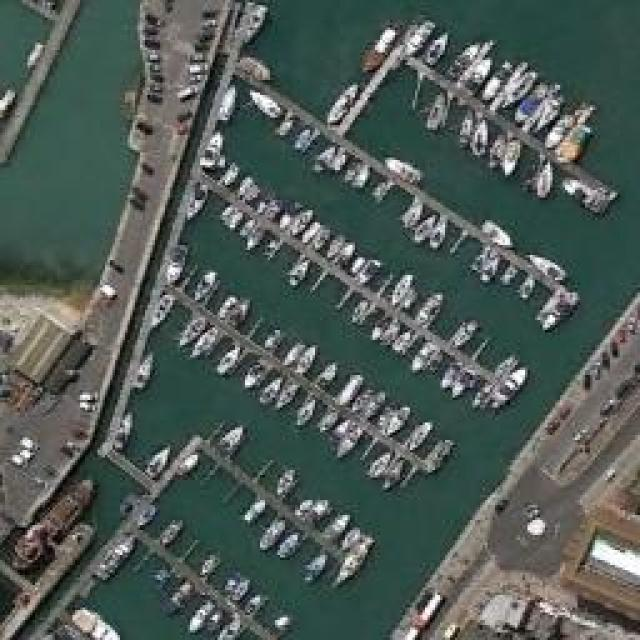Port: (6, 2, 636, 640)
